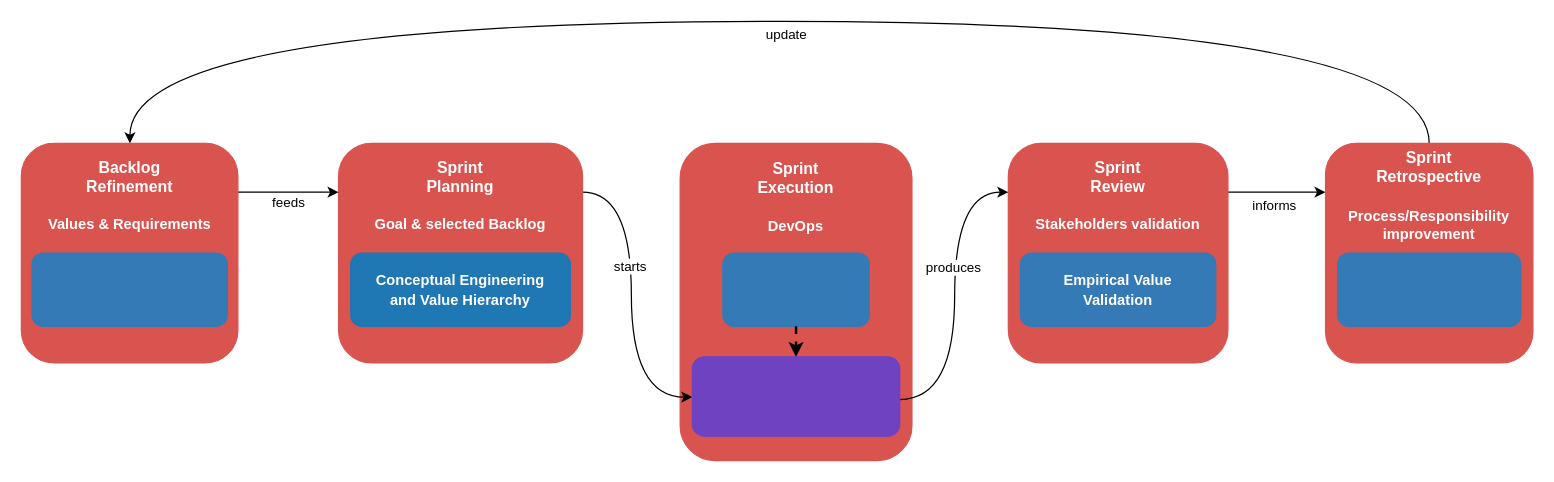
Some shapes in this 1554 by 482 pixel diagram are drawn without their labels. The centre of each missing label's shape, as x and y in pixels:
"CI/CD pipeline" belongs at [795,396].
"Responsibility and Value Tension Review" belongs at [1429,289].
"Stakeholder and Value Elicitation" belongs at [129,289].
"Value-Sensitive constraints" belongs at [795,289].
